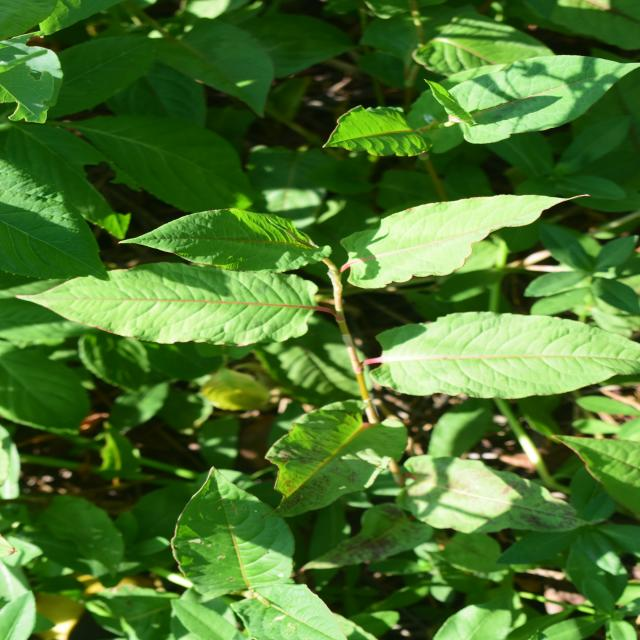Chinese_knotweed: (178, 27, 445, 588)
